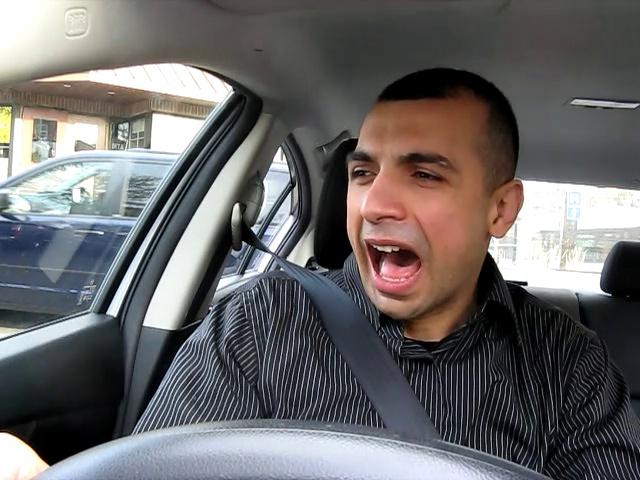close_eyeL: (339, 162, 384, 188)
close_eyeR: (399, 160, 461, 193)
yawn: (348, 232, 439, 296)
